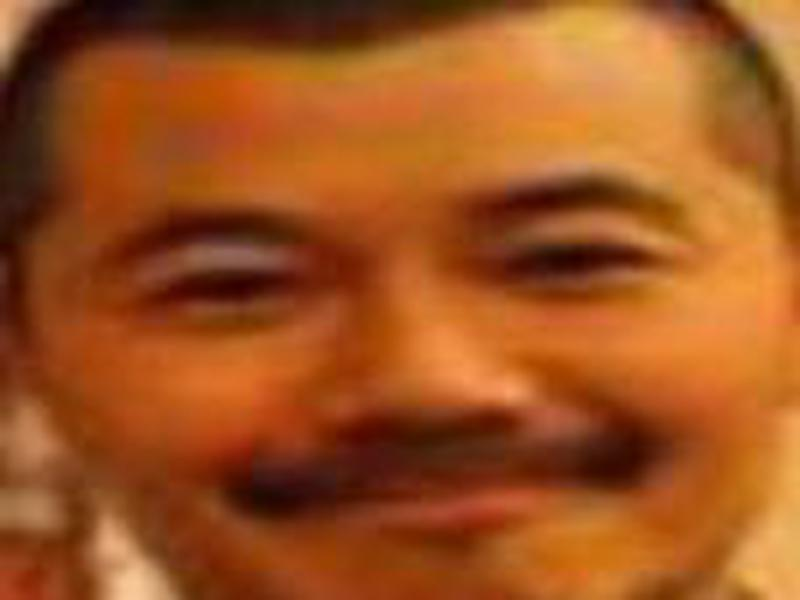without_mask: (27, 18, 795, 600)
